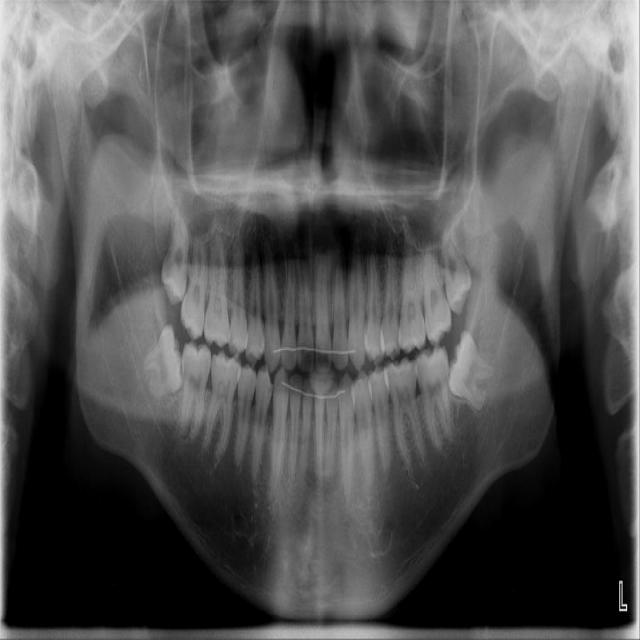Root Canal Treatment: (621, 616, 632, 628)
impacted tooth: (446, 331, 503, 411), (140, 327, 185, 397), (162, 205, 192, 303), (442, 228, 471, 309)
